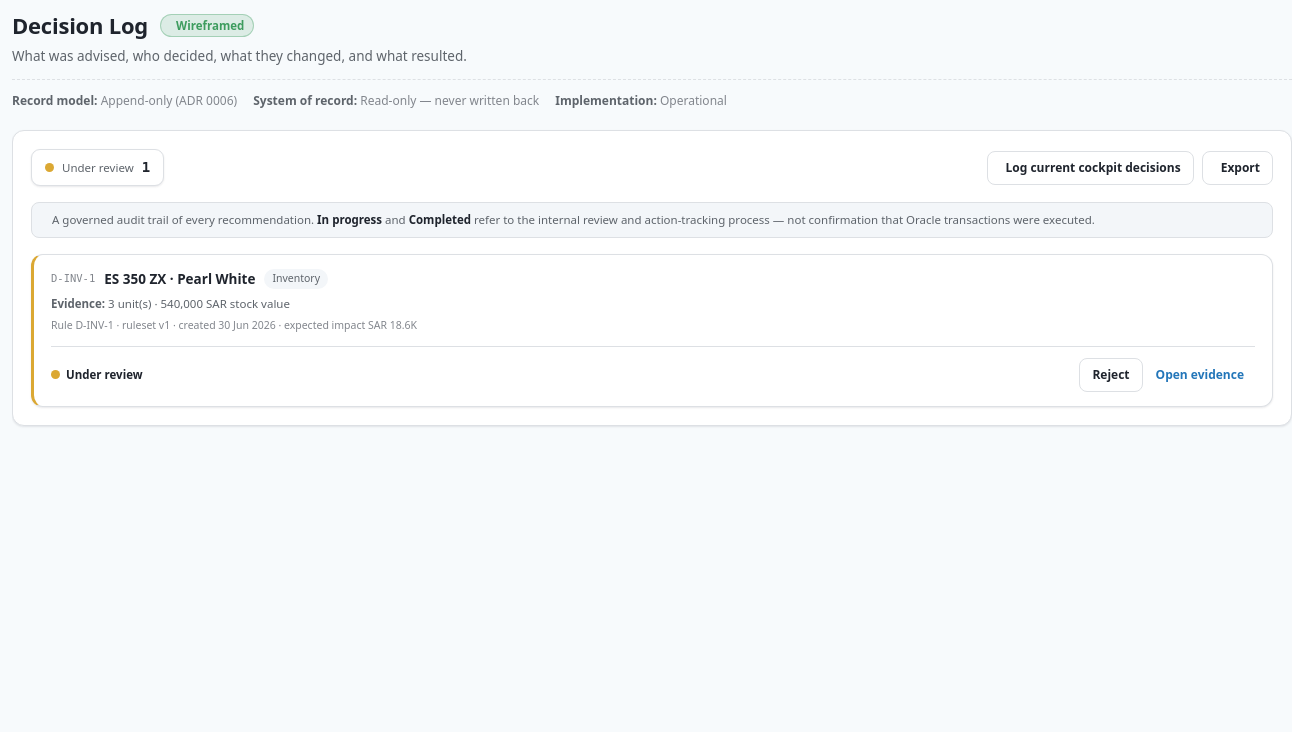
Decision Log — rejecting › renders the server's 400 when the client check is bypassed
Click the button "Reject" at x=1111, y=375, box 1079,358 -> 1142,392
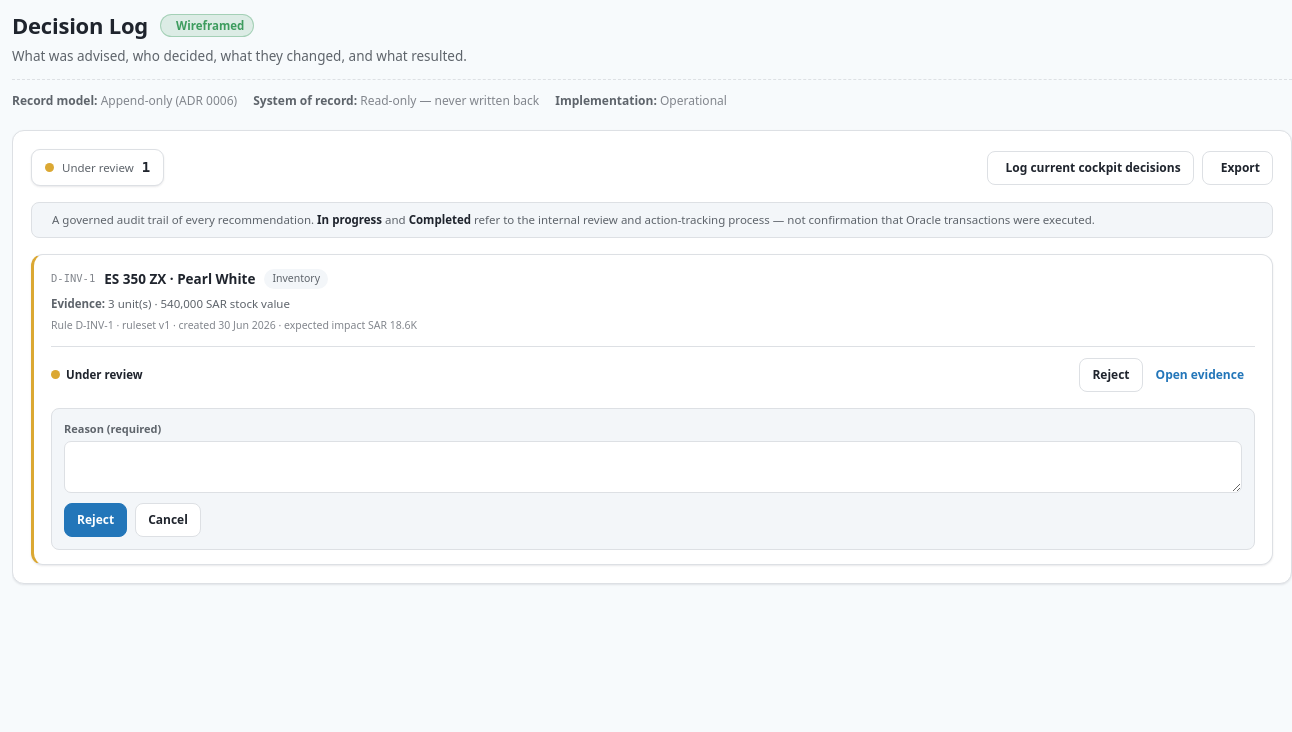
Type "no" into the text box labelled "Reason (required)" at x=653, y=467, box 64,441 -> 1242,493
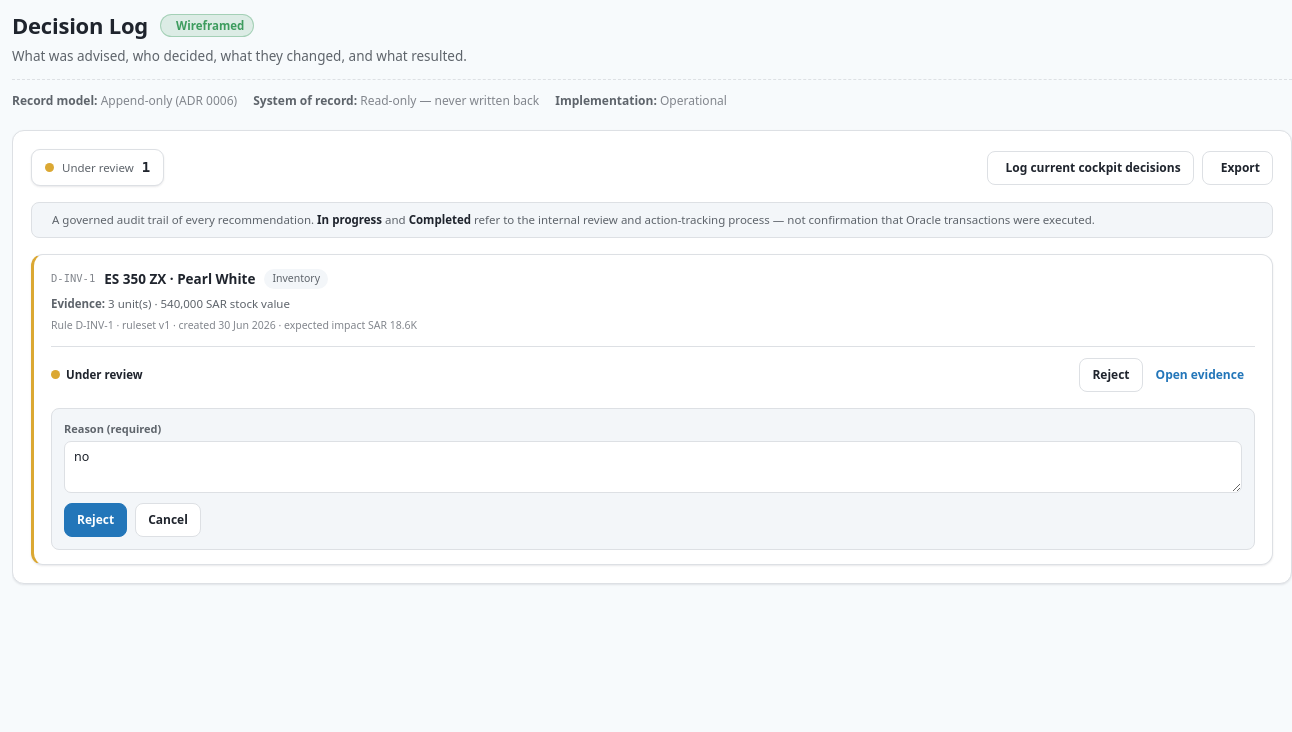
Submit the form labelled "Reason (required) Reject Cancel", box 51,408 -> 1255,550
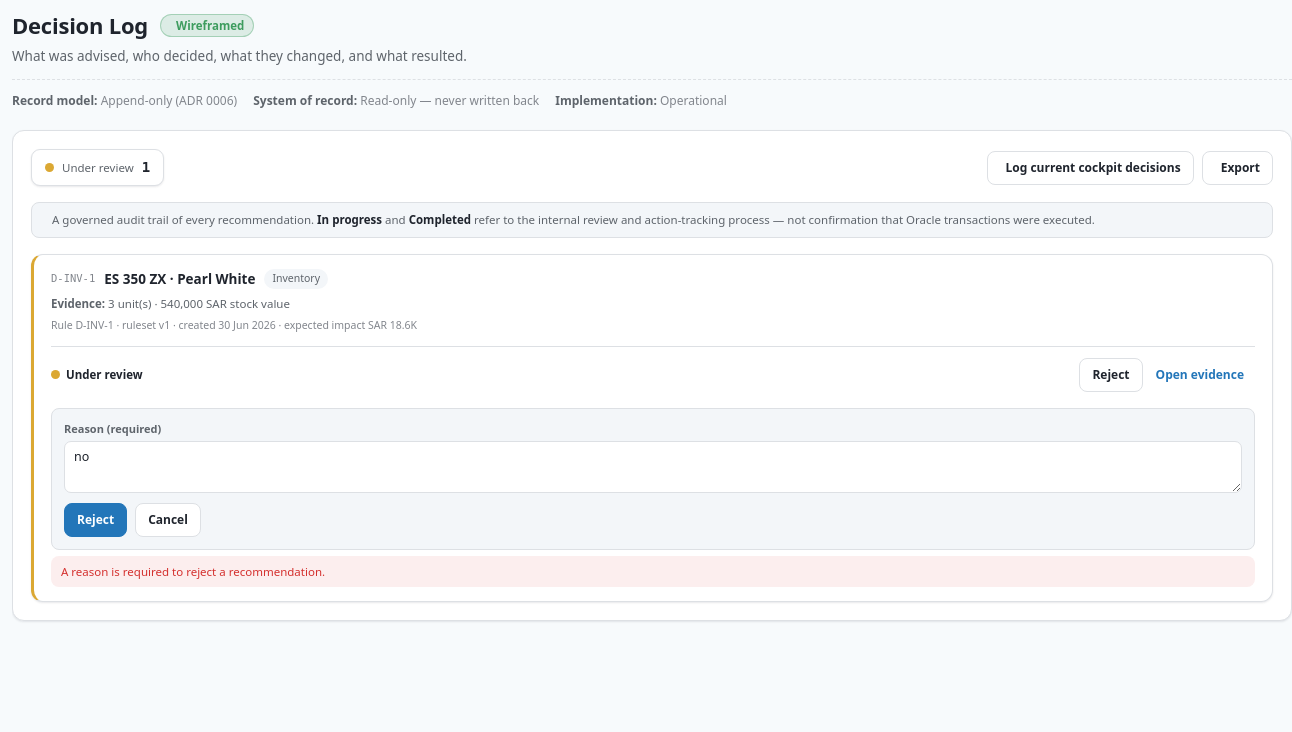
Expected: the text "A reason is required to reject a recommendation." is shown, 51,556 -> 1255,587
